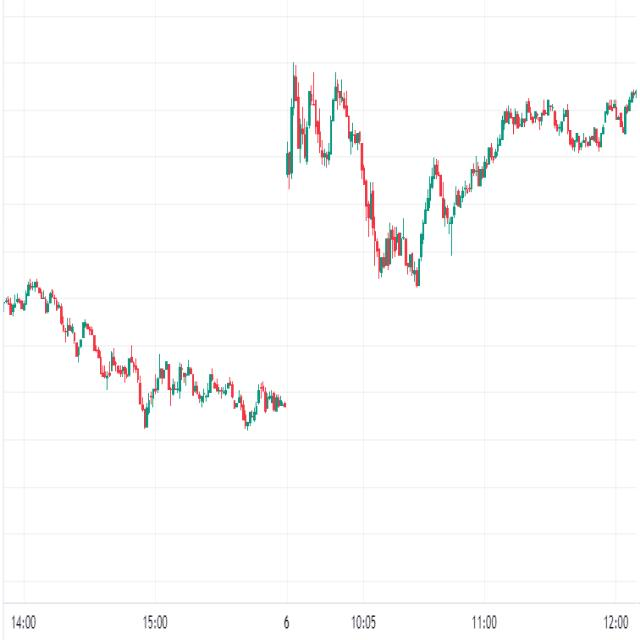Rising-Wedge: (387, 85, 530, 305)
